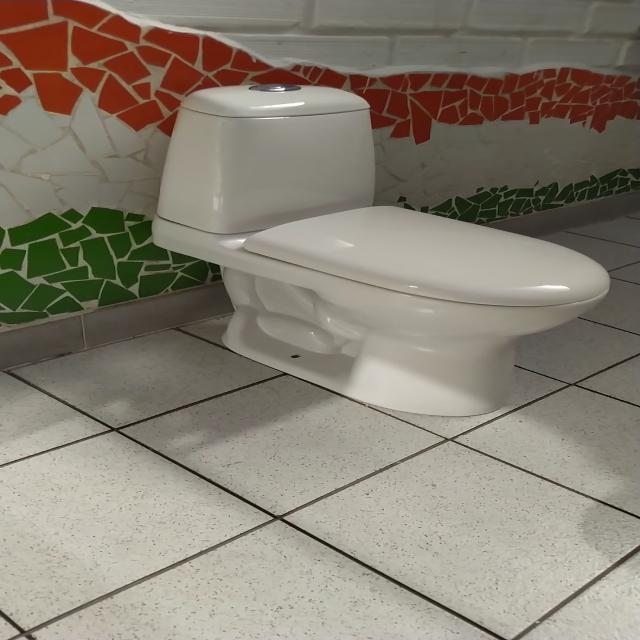toilet: (150, 83, 610, 417)
